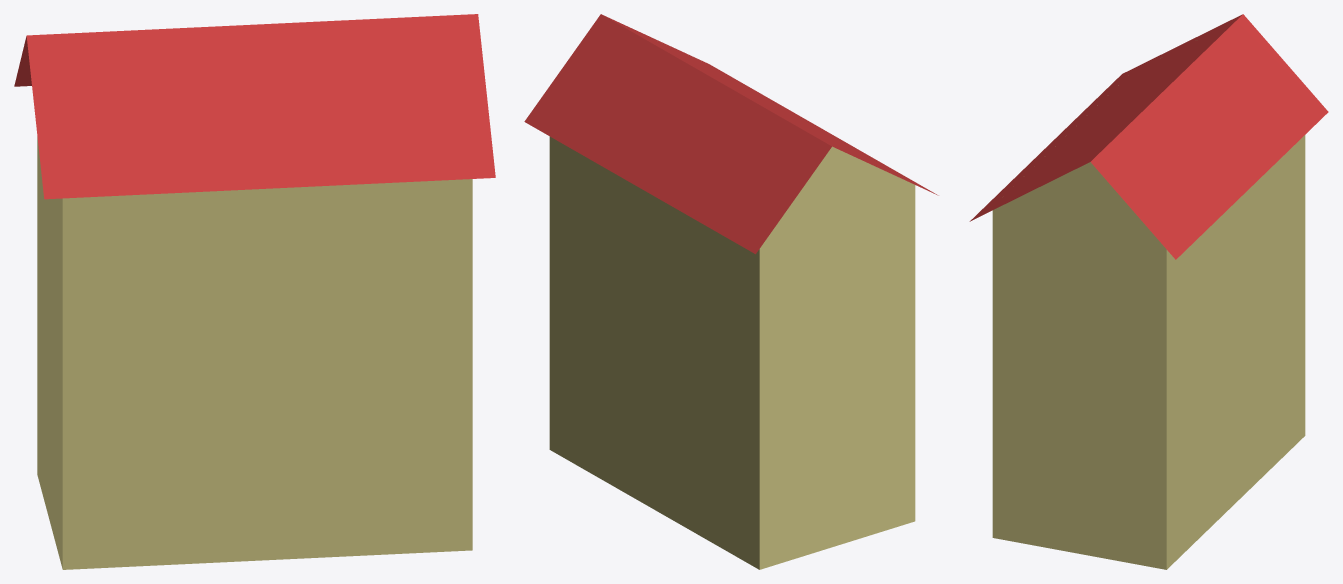
The picture shows the model from 3 angles, left to right: view 1: azimuth 30°, elevation 25°; view 2: azimuth 150°, elevation 25°; view 3: azimuth 270°, elevation 25°; orthographic projection. The views are drawn at different scales.
Bounding box in the file's own units: 6.22 × 5.08 × 6.27.
